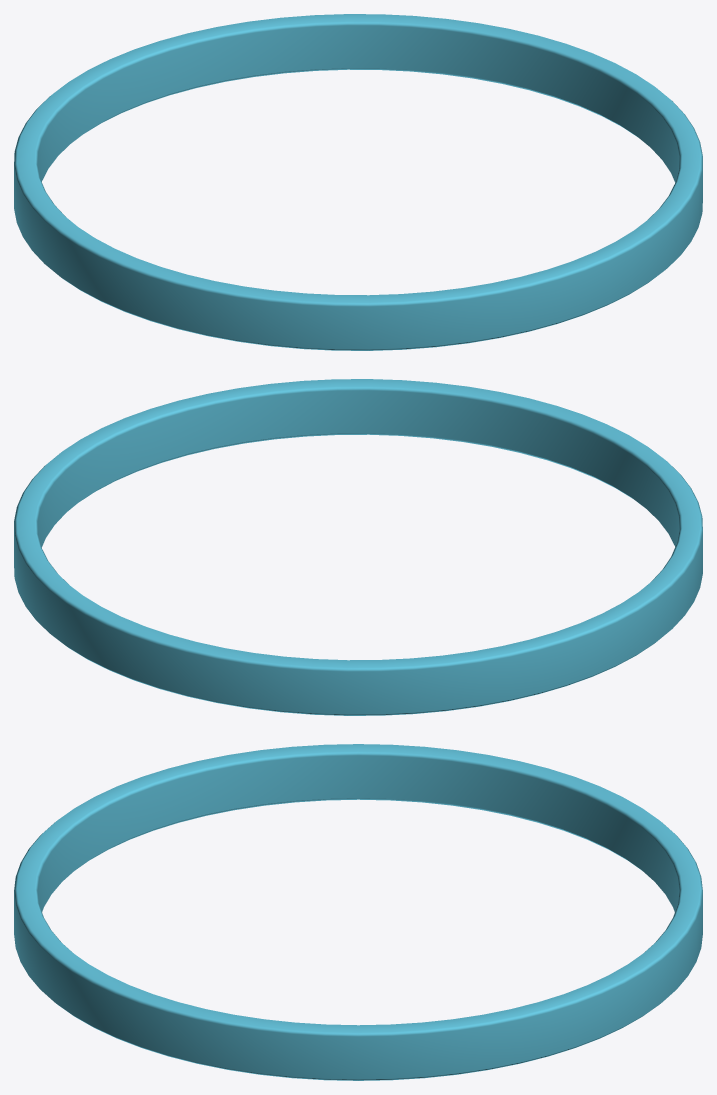
The picture shows the model from 3 angles, top to bottom: view 1: azimuth 30°, elevation 25°; view 2: azimuth 150°, elevation 25°; view 3: azimuth 270°, elevation 25°; orthographic projection.
Visible parts, largest first — view 1: seal_body; view 2: seal_body; view 3: seal_body.
Boxes of the visible parts, <box> form: seal_body: <box>14,14,702,350</box>; seal_body: <box>14,379,702,715</box>; seal_body: <box>14,744,702,1080</box>.
Size of the model in its own units: 0.1841 by 0.0143 by 0.1841.
